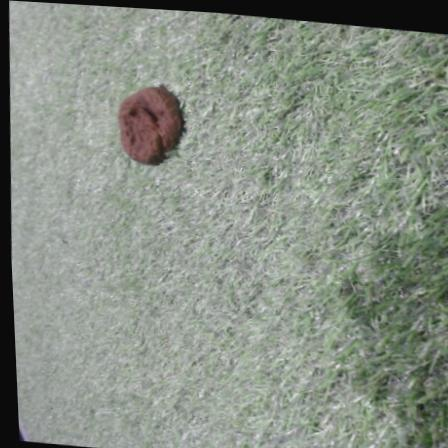dog-poop: (107, 80, 183, 166)
